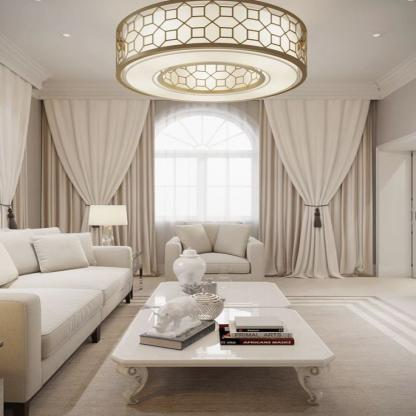Curtains: (43, 85, 378, 281)
